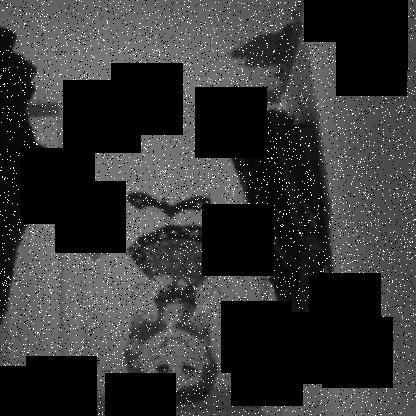Porte: (56, 90, 285, 416)
